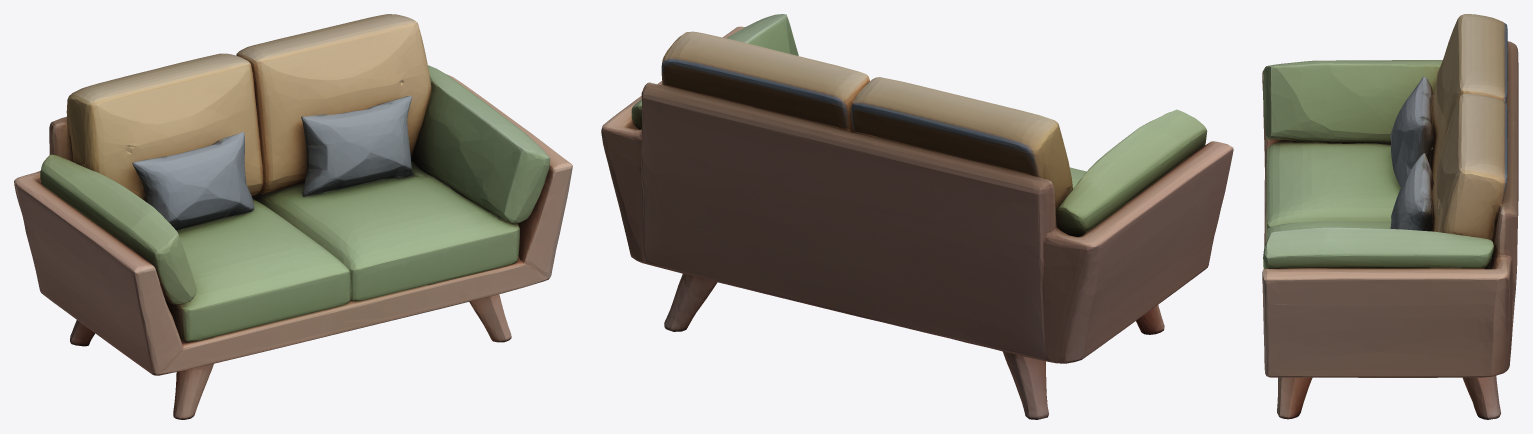
Rendered from sofa.glb.
3 views of the same model, side by side, from view 1: azimuth 30°, elevation 25°; view 2: azimuth 150°, elevation 25°; view 3: azimuth 270°, elevation 25° (orthographic). The views are drawn at different scales.
Visible parts, largest first — view 1: world; view 2: world; view 3: world.
Part boxes in pixels (box(x1,y1,x2,y2)): world: box(14, 14, 572, 419); world: box(601, 14, 1233, 419); world: box(1262, 14, 1518, 419).
Size of the model in its own units: 1 by 0.552 by 0.5131.
Materials: 1 (1 with a texture image).
